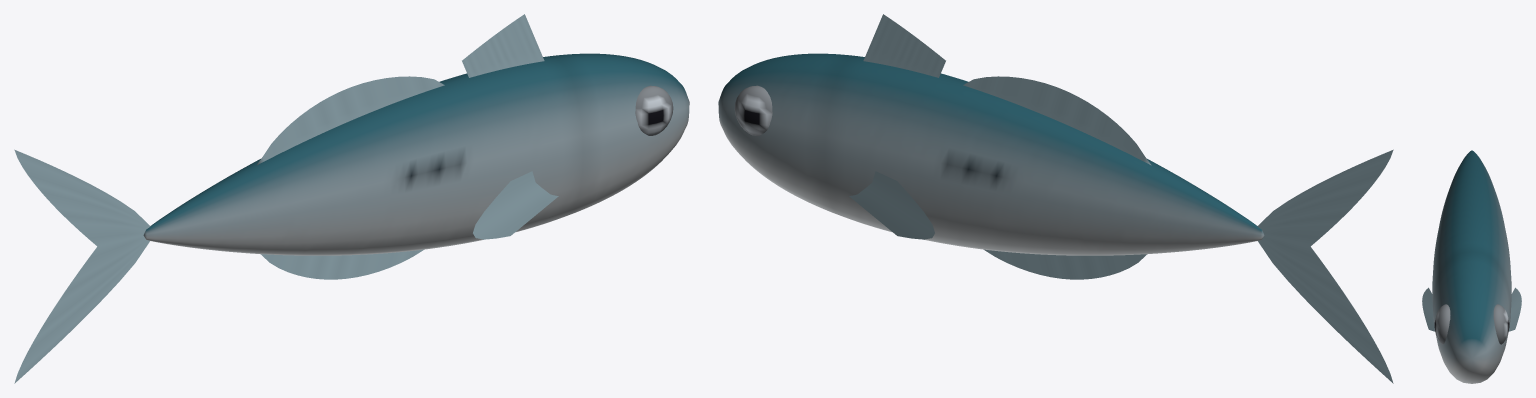
The model's file is istavrit.glb.
The picture shows the model from 3 angles, left to right: view 1: azimuth 30°, elevation 25°; view 2: azimuth 150°, elevation 25°; view 3: azimuth 270°, elevation 25°; orthographic projection. The views are drawn at different scales.
Visible parts, largest first — view 1: istavrit_govde, istavrit_kuyruk, istavrit_sirt2, istavrit_gogusL, istavrit_anal_a, istavrit_sirt, istavrit_gozL; view 2: istavrit_govde, istavrit_kuyruk, istavrit_sirt2, istavrit_gogusR, istavrit_anal_a, istavrit_sirt, istavrit_gozR; view 3: istavrit_govde, istavrit_gozL, istavrit_gozR, istavrit_gogusL, istavrit_gogusR.
Boxes of the visible parts, x1,y1,x2,y2 form: istavrit_govde: [143, 53, 689, 255]; istavrit_kuyruk: [14, 149, 150, 383]; istavrit_sirt2: [256, 76, 444, 165]; istavrit_gogusL: [473, 171, 558, 239]; istavrit_anal_a: [260, 249, 423, 279]; istavrit_sirt: [462, 14, 544, 77]; istavrit_gozL: [635, 85, 673, 135]; istavrit_govde: [718, 53, 1264, 255]; istavrit_kuyruk: [1257, 149, 1393, 383]; istavrit_sirt2: [963, 76, 1151, 165]; istavrit_gogusR: [849, 171, 934, 239]; istavrit_anal_a: [984, 249, 1147, 279]; istavrit_sirt: [863, 14, 945, 77]; istavrit_gozR: [734, 85, 772, 135]; istavrit_govde: [1432, 150, 1511, 383]; istavrit_gozL: [1434, 304, 1450, 344]; istavrit_gozR: [1493, 304, 1509, 344]; istavrit_gogusL: [1422, 287, 1435, 331]; istavrit_gogusR: [1508, 287, 1521, 331].
Bounding box in the file's own units: 1.02 × 0.356 × 0.1698.
